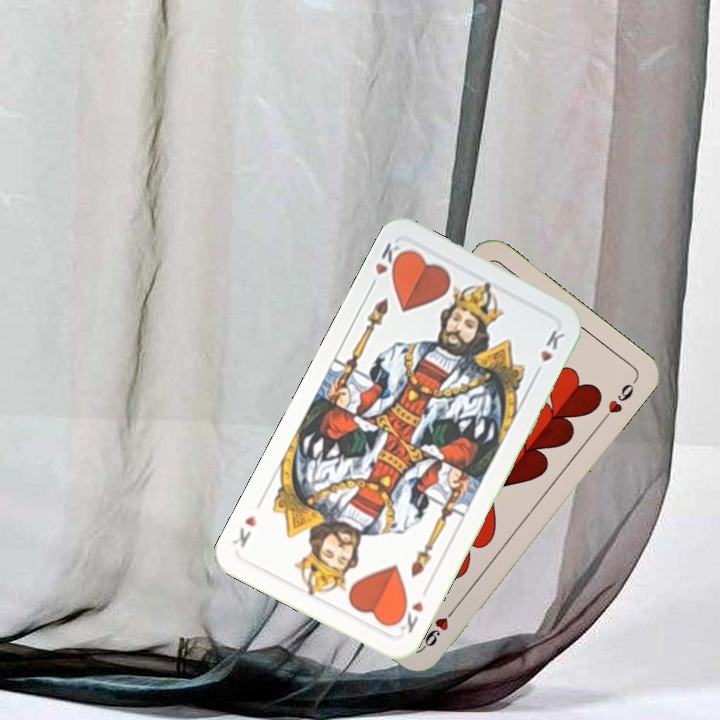H9: (417, 603, 459, 653)
HK: (365, 238, 409, 293), (391, 595, 426, 638)
